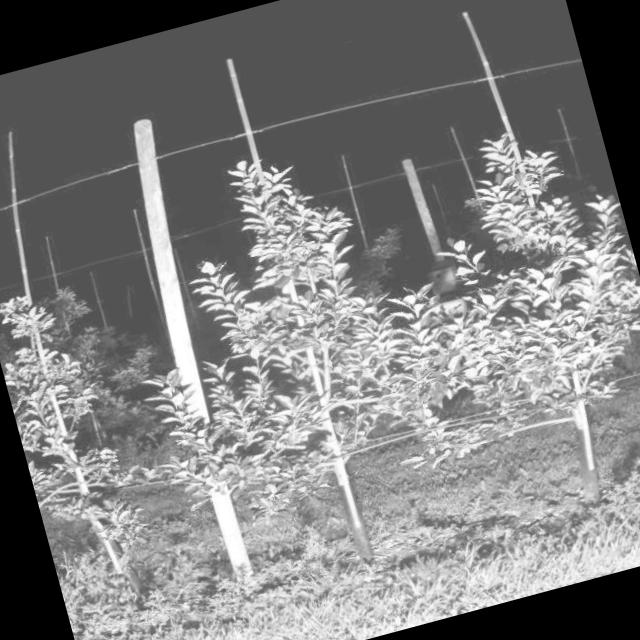Tree: (168, 139, 452, 592), (421, 114, 640, 528), (0, 271, 183, 599)
